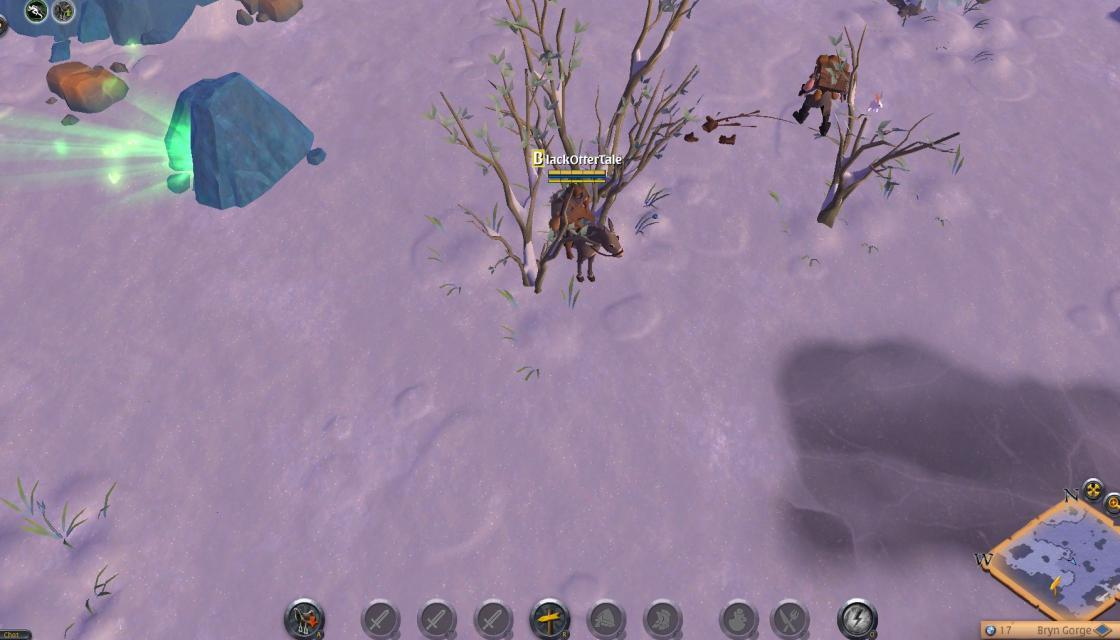limestone: (41, 54, 133, 120), (234, 0, 304, 26)
